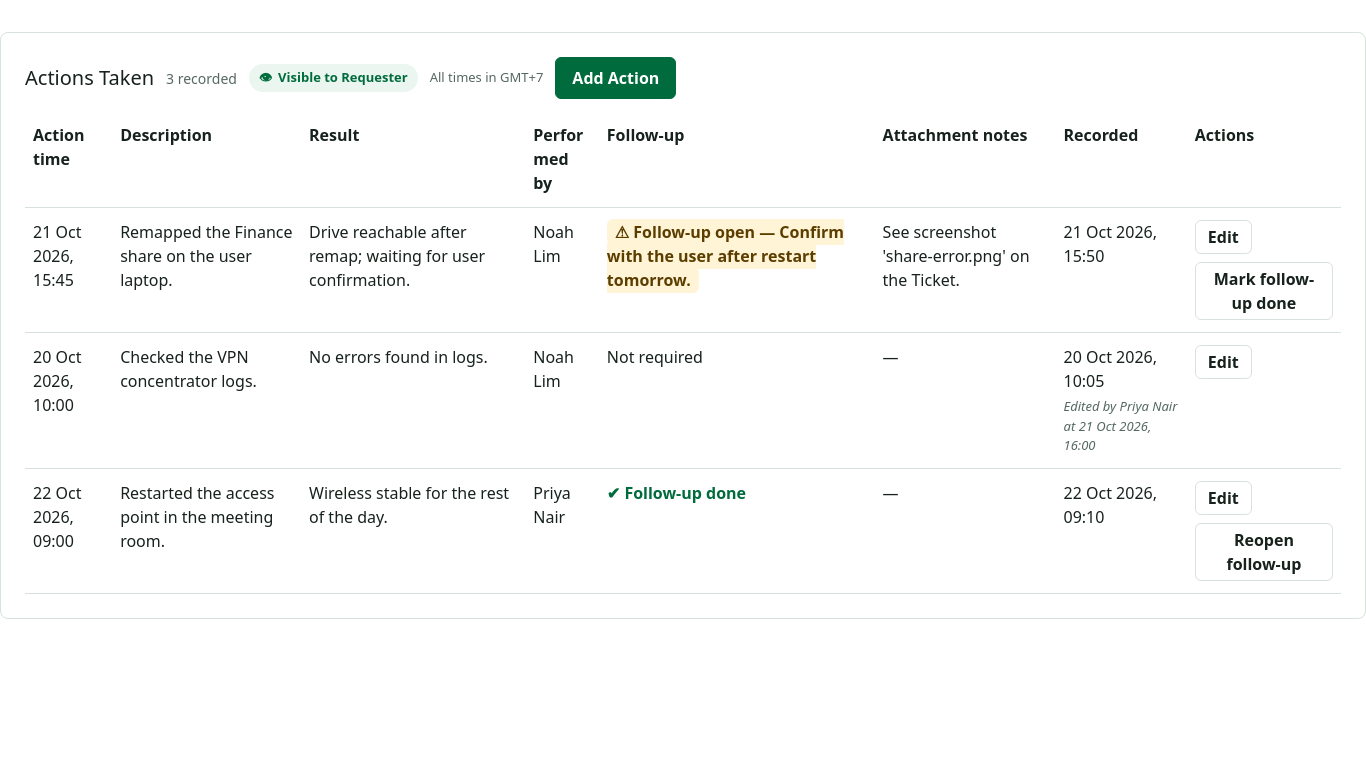
Scenario: UI-06: edit mode and follow-up completion › UI-06: Mark follow-up done PATCHes followUpCompleted with expectedVersion and refreshes the list
Expected: the text "Remapped the Finance share on the user laptop." is shown, [112, 208, 301, 332]
Click the button "Mark follow-up done" at {"x": 1264, "y": 291}, box [1195, 262, 1333, 320]
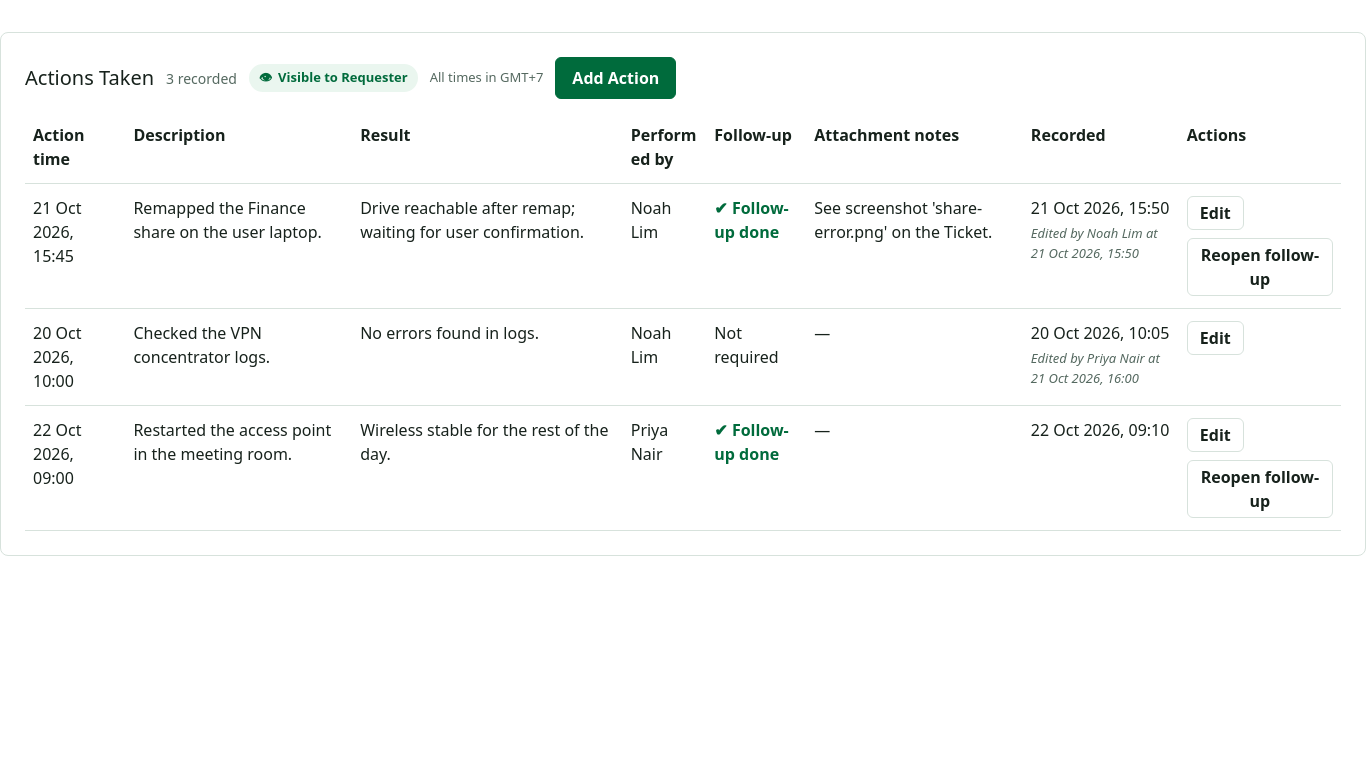
Now the 1st button "Reopen follow-up" is shown, box [1187, 238, 1333, 296]
Now the text "✔ Follow-up done" in the row of "21 Oct 2026, 15:45" is shown, box [714, 197, 789, 243]
